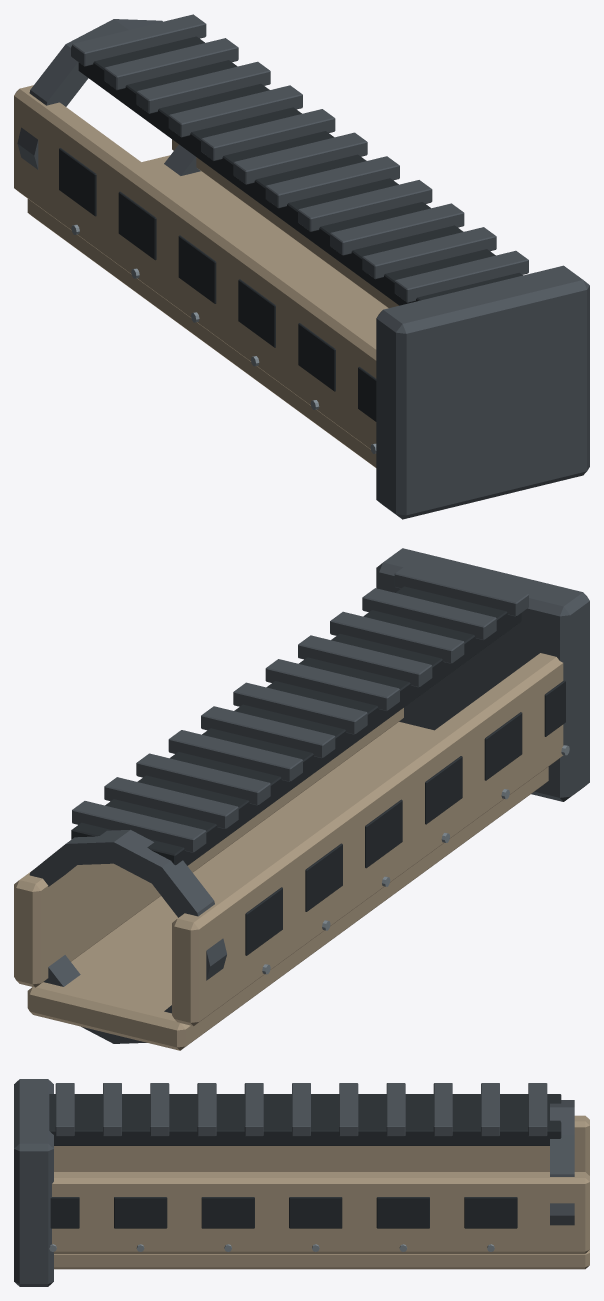
The model's file is att_handguard_cedar545.glb.
3 views of the same model, one above another, from view 1: azimuth 30°, elevation 25°; view 2: azimuth 150°, elevation 25°; view 3: azimuth 270°, elevation 25° (orthographic). The views are drawn at different scales.
Parts seen in each view (by area): view 1: Geometry_att_handguard_cedar545; view 2: Geometry_att_handguard_cedar545; view 3: Geometry_att_handguard_cedar545.
Boxes of the visible parts, x1,y1,x2,y2 form: Geometry_att_handguard_cedar545: [14, 14, 589, 519]; Geometry_att_handguard_cedar545: [14, 548, 589, 1050]; Geometry_att_handguard_cedar545: [14, 1079, 589, 1286].
Bounding box in the file's own units: 0.0862 × 0.0873 × 0.3025.
